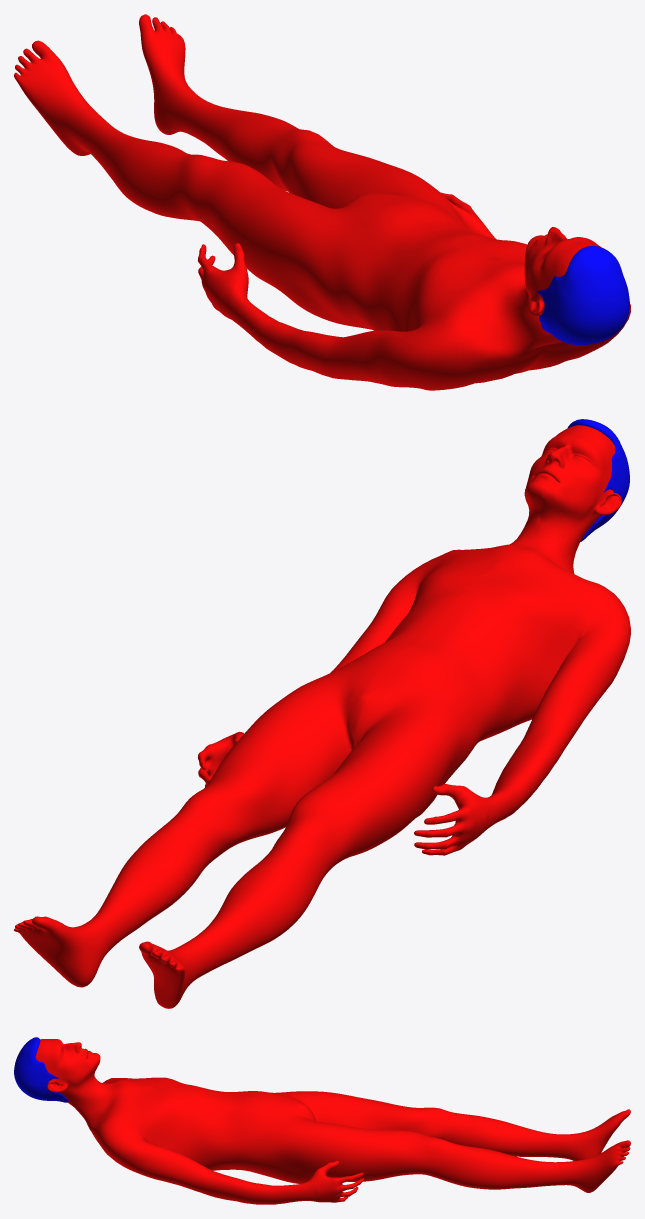
Rendered from SM_PlaceholderPatient.fbx.
3 renders of one model, top to bottom at view 1: azimuth 30°, elevation 25°; view 2: azimuth 150°, elevation 25°; view 3: azimuth 270°, elevation 25°, orthographic. The views are drawn at different scales.
Parts seen in each view (by area): view 1: SM_PlaceholderPatient; view 2: SM_PlaceholderPatient; view 3: SM_PlaceholderPatient.
Boxes of the visible parts, <box> form: SM_PlaceholderPatient: <box>14,14,630,390</box>; SM_PlaceholderPatient: <box>14,419,630,1008</box>; SM_PlaceholderPatient: <box>14,1037,630,1204</box>.
Bounding box in the file's own units: 51.99 × 43.82 × 174.
